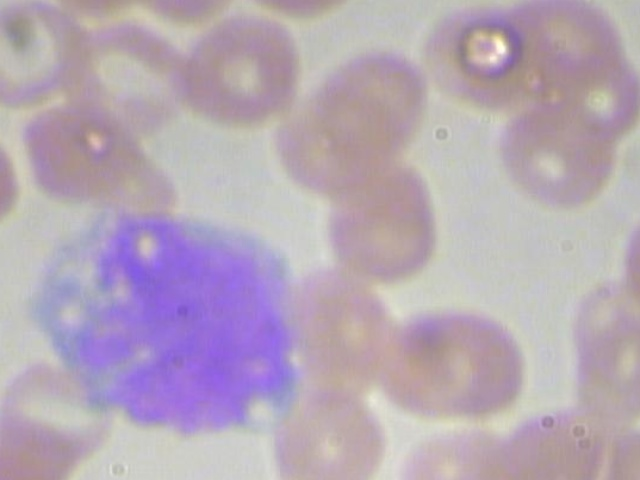RBC: (313, 153, 451, 278), (275, 81, 413, 206), (491, 92, 629, 216), (173, 5, 310, 129), (397, 296, 534, 420), (416, 0, 538, 116), (16, 99, 142, 207), (265, 374, 391, 480), (0, 0, 91, 110), (0, 120, 43, 244)
WBC: (19, 191, 313, 439)
